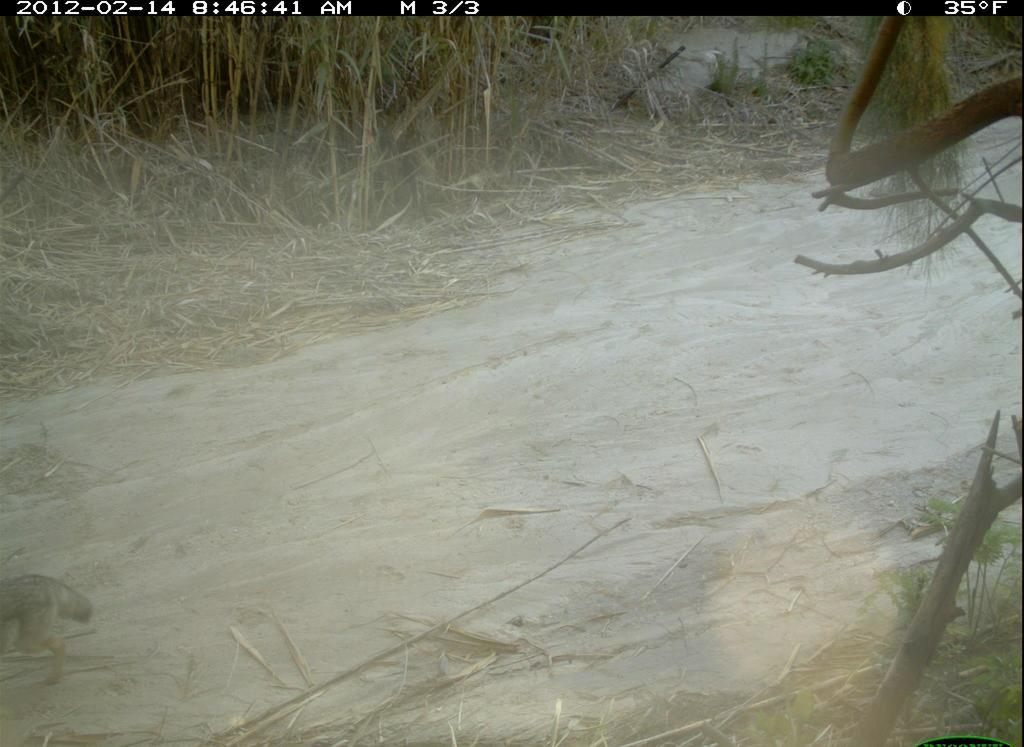coyote: (7, 562, 107, 698)
